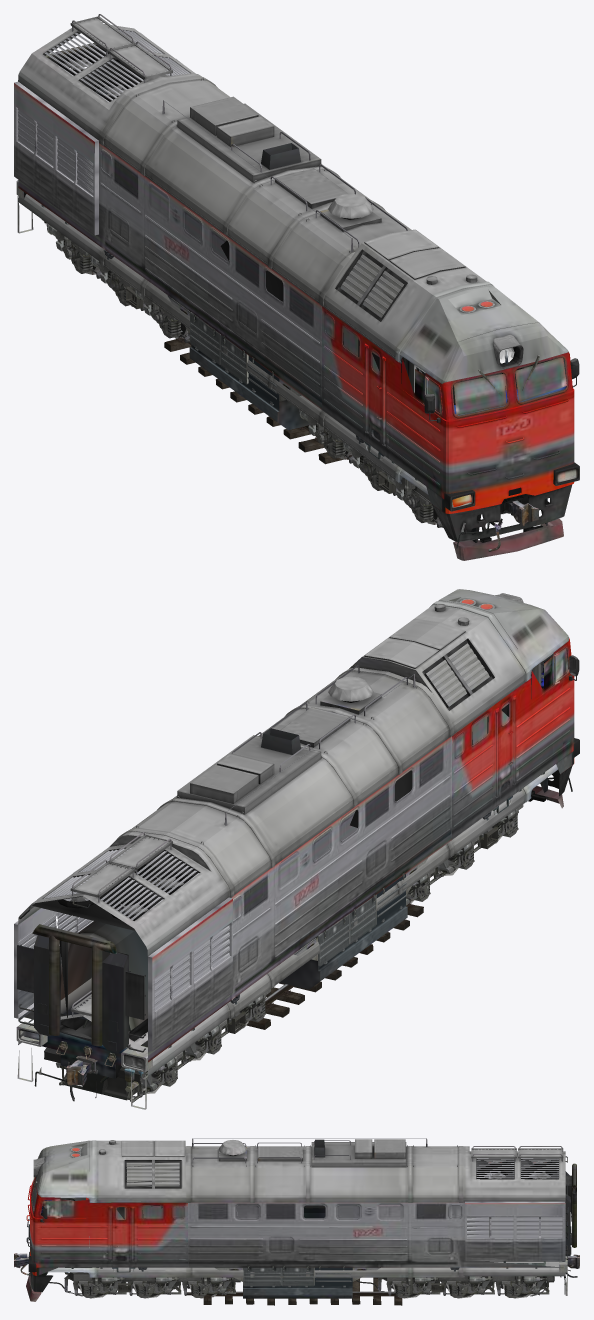
Rendered from trem.glb.
3 views of the same model, one above another, from view 1: azimuth 30°, elevation 25°; view 2: azimuth 150°, elevation 25°; view 3: azimuth 270°, elevation 25° (orthographic). The views are drawn at different scales.
Parts seen in each view (by area): view 1: krisha, kuzov2, kuzov, niz, kuzov3, krisha.001, stekla, bogie_front, bogie_front.001, zhaluzi3, zhaluzi2, zhaluzi (+1 smaller); view 2: krisha, kuzov2, kuzov3, kuzov, krisha.001, bogie_front.001, zhaluzi2, zhaluzi3, bogie_front, zhaluzi, niz, Railway_segment (+1 smaller); view 3: krisha, kuzov2, kuzov, kuzov3, krisha.001, bogie_front, bogie_front.001, zhaluzi2, zhaluzi, Railway_segment, zhaluzi3, niz (+1 smaller).
Part boxes in pixels (x1,y1,x2,y2): krisha: (18, 14, 568, 383); kuzov2: (14, 81, 444, 467); kuzov: (48, 46, 574, 526); niz: (424, 347, 579, 560); kuzov3: (16, 43, 418, 481); krisha.001: (18, 194, 428, 494); stekla: (184, 211, 566, 415); bogie_front: (299, 409, 512, 527); bogie_front.001: (44, 221, 189, 343); zhaluzi3: (37, 28, 190, 102); zhaluzi2: (17, 108, 93, 195); zhaluzi: (340, 254, 403, 317); krisha: (18, 589, 568, 956); kuzov2: (18, 641, 570, 1062); kuzov3: (16, 772, 544, 1109); kuzov: (14, 638, 574, 1085); krisha.001: (18, 764, 557, 1076); bogie_front.001: (44, 989, 270, 1102); zhaluzi2: (18, 899, 229, 1010); zhaluzi3: (37, 848, 199, 924); bogie_front: (406, 804, 523, 905); zhaluzi: (426, 643, 489, 706); niz: (24, 655, 579, 1047); Railway_segment: (246, 903, 423, 1029); krisha: (33, 1138, 565, 1202); kuzov2: (37, 1162, 565, 1267); kuzov: (14, 1160, 579, 1275); kuzov3: (65, 1156, 577, 1298); krisha.001: (47, 1236, 565, 1277); bogie_front: (49, 1272, 240, 1297); bogie_front.001: (356, 1276, 554, 1297); zhaluzi2: (467, 1174, 562, 1238); zhaluzi: (126, 1162, 179, 1186); Railway_segment: (187, 1277, 403, 1305); zhaluzi3: (476, 1158, 558, 1182); niz: (20, 1177, 544, 1301).
Size of the model in its own units: 3.59 by 5.26 by 18.51.
Materials: 7 (6 with a texture image).
